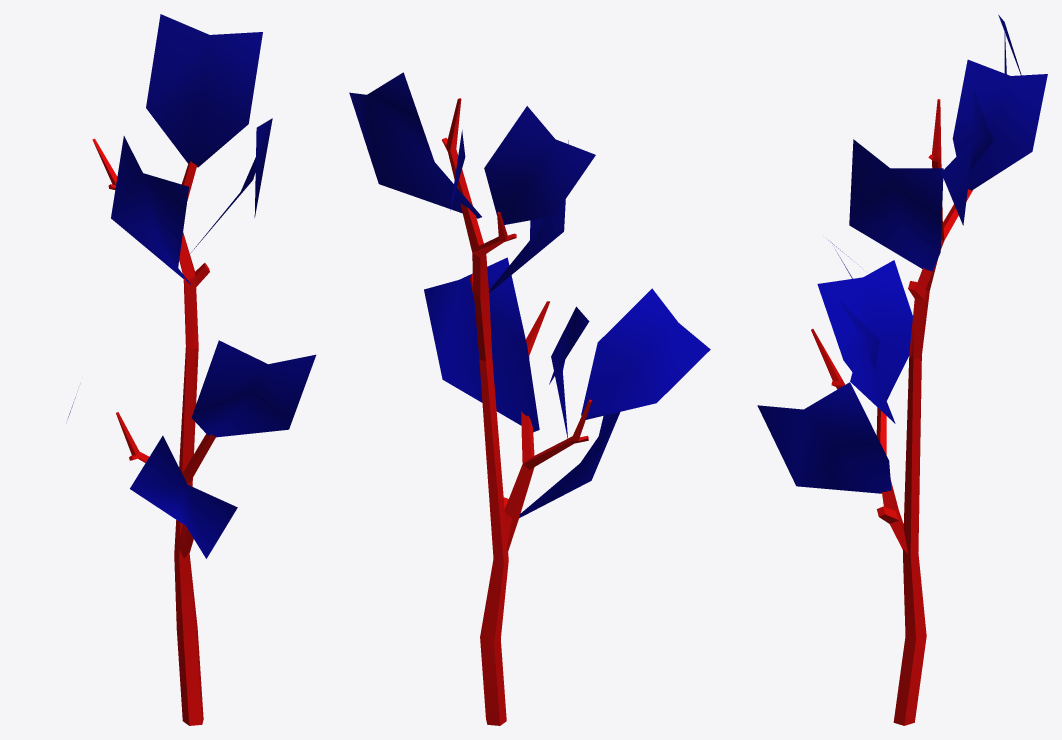
Rendered from SM_Tree_Dead_02.gltf.
The picture shows the model from 3 angles, left to right: view 1: azimuth 30°, elevation 25°; view 2: azimuth 150°, elevation 25°; view 3: azimuth 270°, elevation 25°; orthographic projection.
Visible parts, largest first — view 1: SM_Tree_Dead_02; view 2: SM_Tree_Dead_02; view 3: SM_Tree_Dead_02.
Boxes of the visible parts, x1,y1,x2,y2 form: SM_Tree_Dead_02: [67, 14, 316, 725]; SM_Tree_Dead_02: [349, 72, 710, 725]; SM_Tree_Dead_02: [757, 15, 1047, 725].
Bounding box in the file's own units: 1.19 × 2.66 × 1.07.
